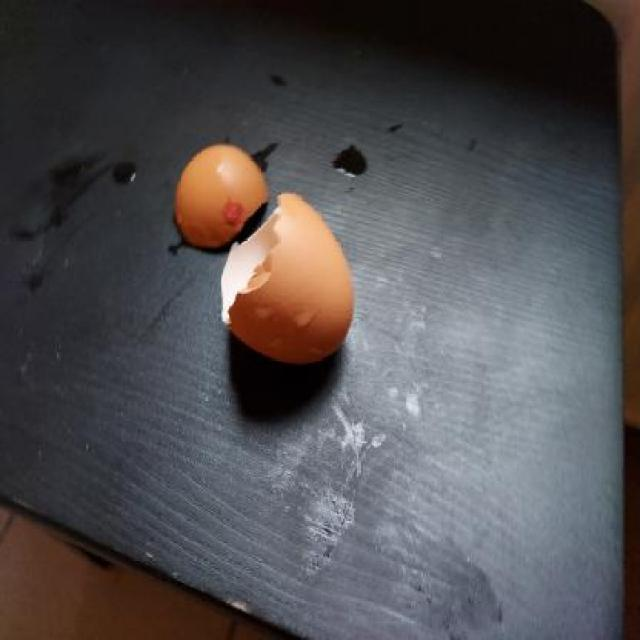biodegradable: (219, 190, 361, 375), (174, 146, 268, 248)
